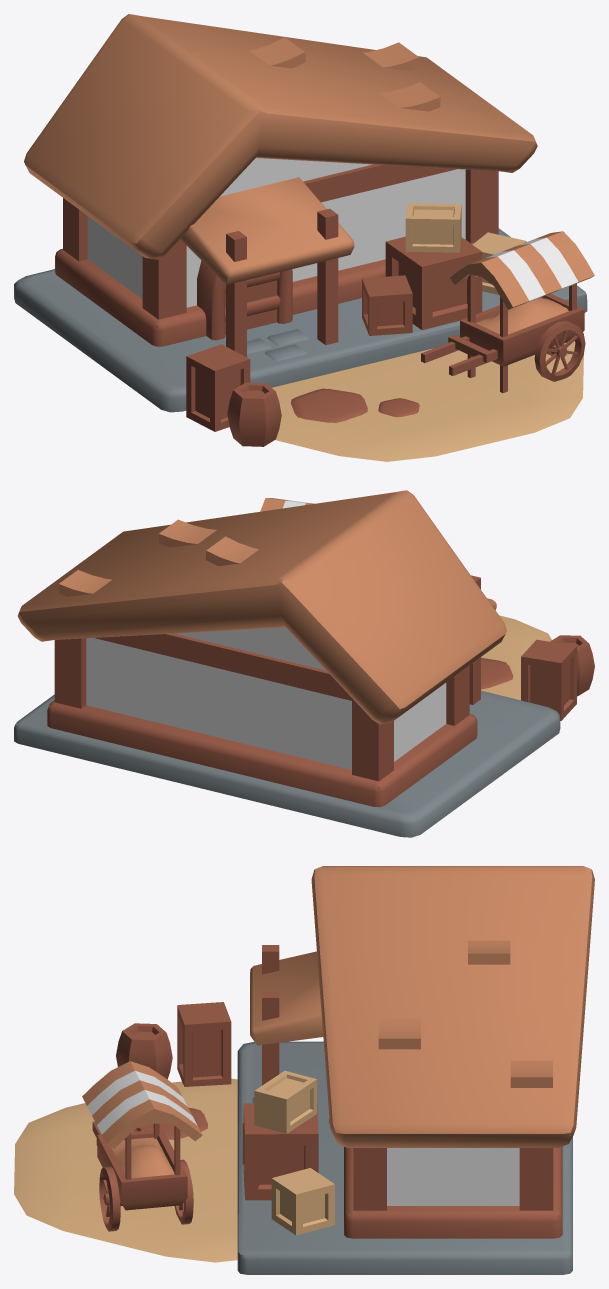
File: market.gltf.glb
3 views of the same model, one above another, from view 1: azimuth 30°, elevation 25°; view 2: azimuth 150°, elevation 25°; view 3: azimuth 270°, elevation 25° (orthographic). The views are drawn at different scales.
Parts seen in each view (by area): view 1: market; view 2: market; view 3: market.
Part boxes in pixels (left/top/right/bottom): market: left=14, top=14, right=594, bottom=461; market: left=14, top=490, right=594, bottom=837; market: left=14, top=866, right=594, bottom=1274.
Size of the model in its own units: 48162 by 28308 by 54867.
